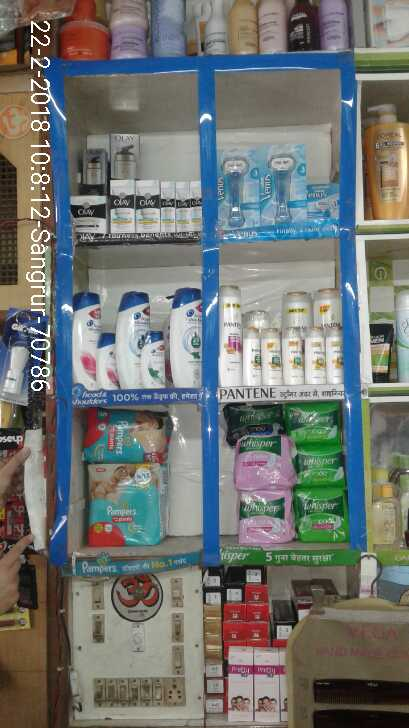venus: (215, 147, 261, 231), (261, 147, 307, 219), (307, 183, 338, 219)
